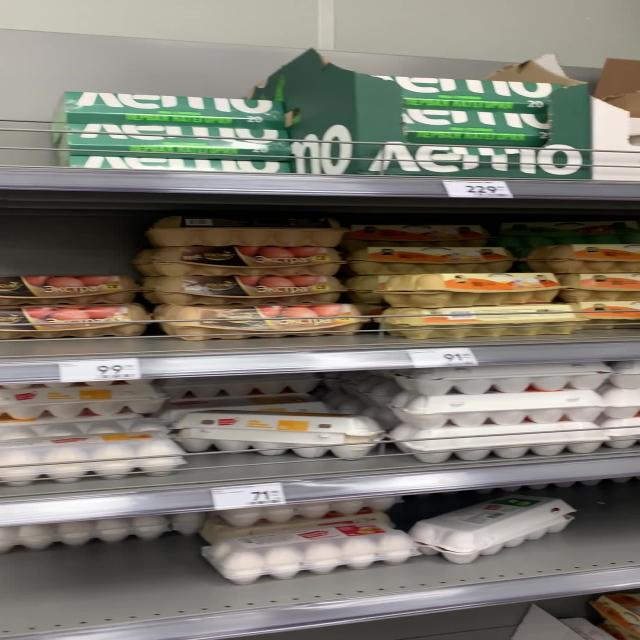egg box: (204, 524, 424, 584), (173, 404, 385, 457), (57, 82, 277, 128), (50, 117, 292, 157), (370, 261, 556, 305), (384, 301, 588, 340), (128, 241, 351, 276), (145, 301, 362, 332), (144, 213, 348, 245), (130, 273, 350, 301), (344, 241, 530, 272)
